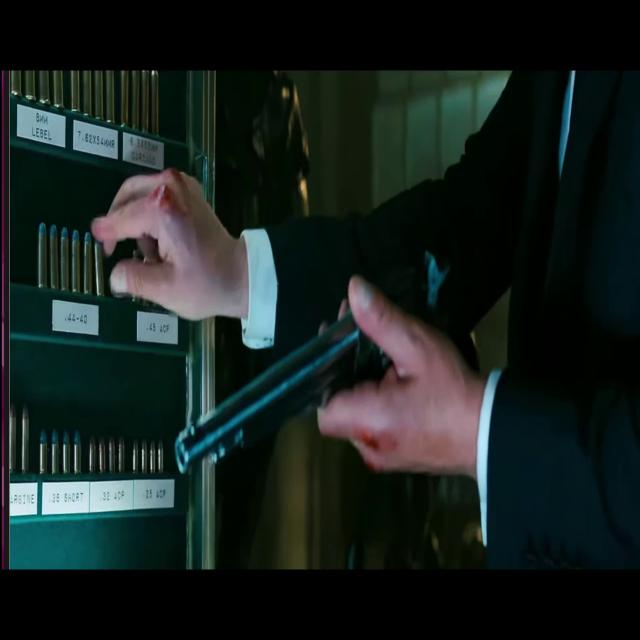weapons: (159, 281, 404, 489)
